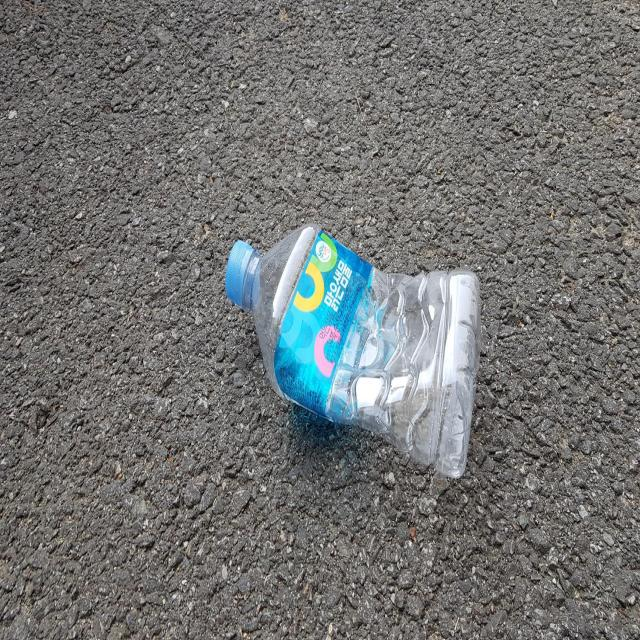plastic: (226, 222, 482, 478)
